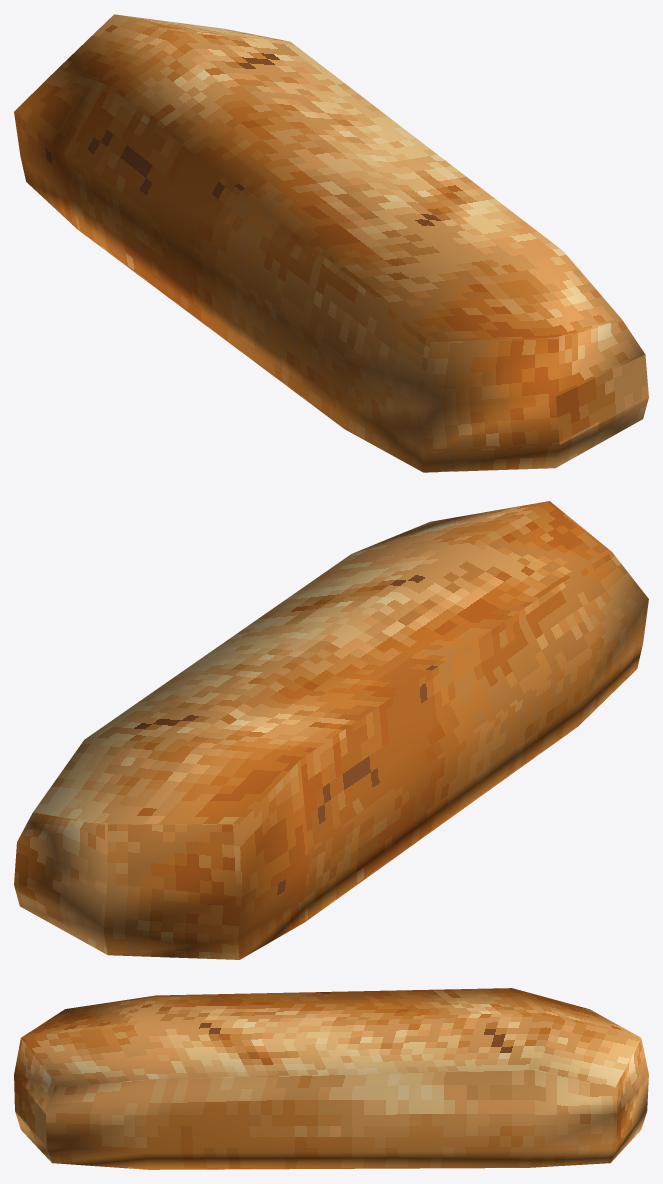
The model's file is bread_small.glb.
The picture shows the model from 3 angles, top to bottom: view 1: azimuth 30°, elevation 25°; view 2: azimuth 150°, elevation 25°; view 3: azimuth 270°, elevation 25°; orthographic projection. The views are drawn at different scales.
Visible parts, largest first — view 1: bread_small; view 2: bread_small; view 3: bread_small.
Part boxes in pixels (x1,y1,x2,y2): bread_small: (14,14,648,472); bread_small: (14,501,648,959); bread_small: (14,988,648,1169).
Size of the model in its own units: 0.1773 by 0.1122 by 0.557.
1 material, 1 textured.
